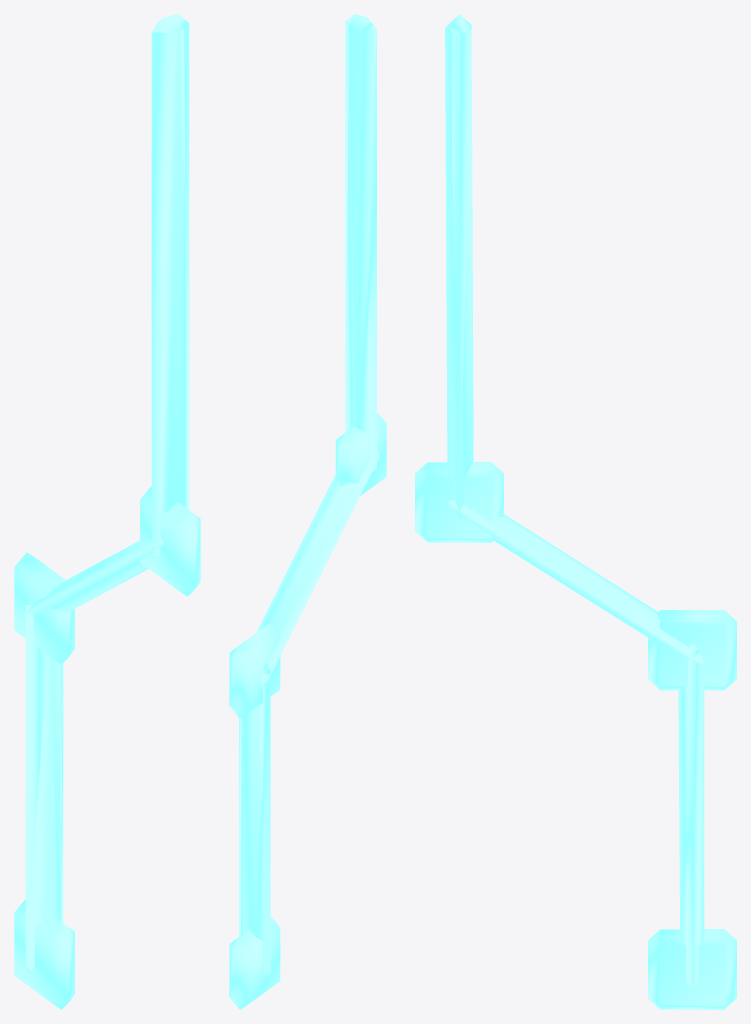
The model's file is Estela_MusloDer_Neon.fbx.
3 renders of one model, left to right at view 1: azimuth 30°, elevation 25°; view 2: azimuth 150°, elevation 25°; view 3: azimuth 270°, elevation 25°, orthographic. The views are drawn at different scales.
Parts seen in each view (by area): view 1: Estela_MusloDer_Neon; view 2: Estela_MusloDer_Neon; view 3: Estela_MusloDer_Neon.
Boxes of the visible parts, left/top/right/bottom form: Estela_MusloDer_Neon: left=14, top=14, right=200, bottom=1009; Estela_MusloDer_Neon: left=229, top=14, right=386, bottom=1009; Estela_MusloDer_Neon: left=415, top=14, right=736, bottom=1009.
Bounding box in the file's own units: 0.05 × 1.37 × 0.4034.
